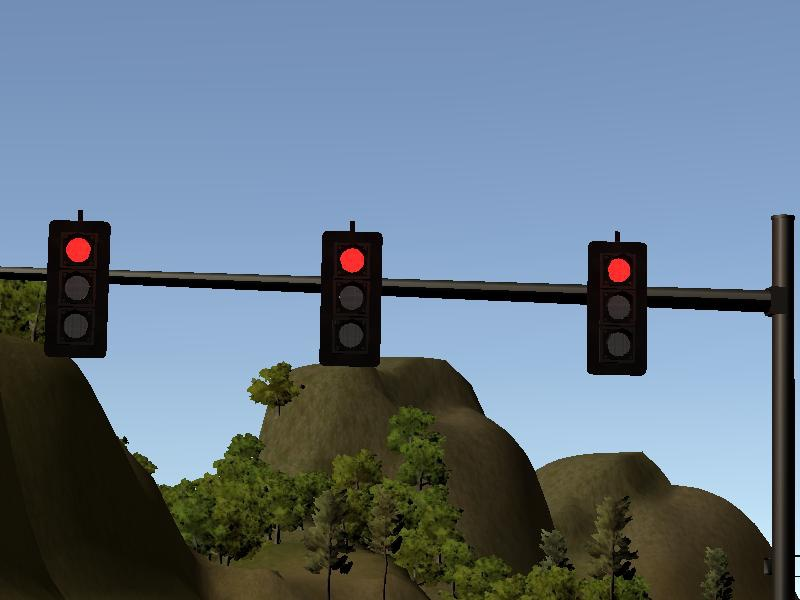Red: (587, 239, 645, 377), (48, 221, 105, 358), (323, 233, 378, 366)
